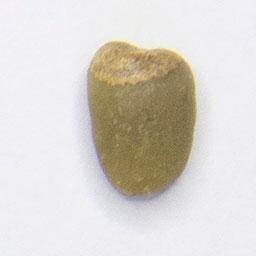longberry: (83, 32, 199, 202)
